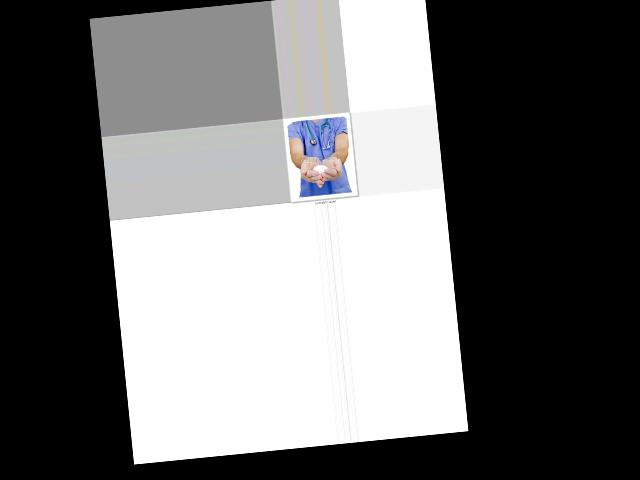egg: (313, 164, 329, 175)
